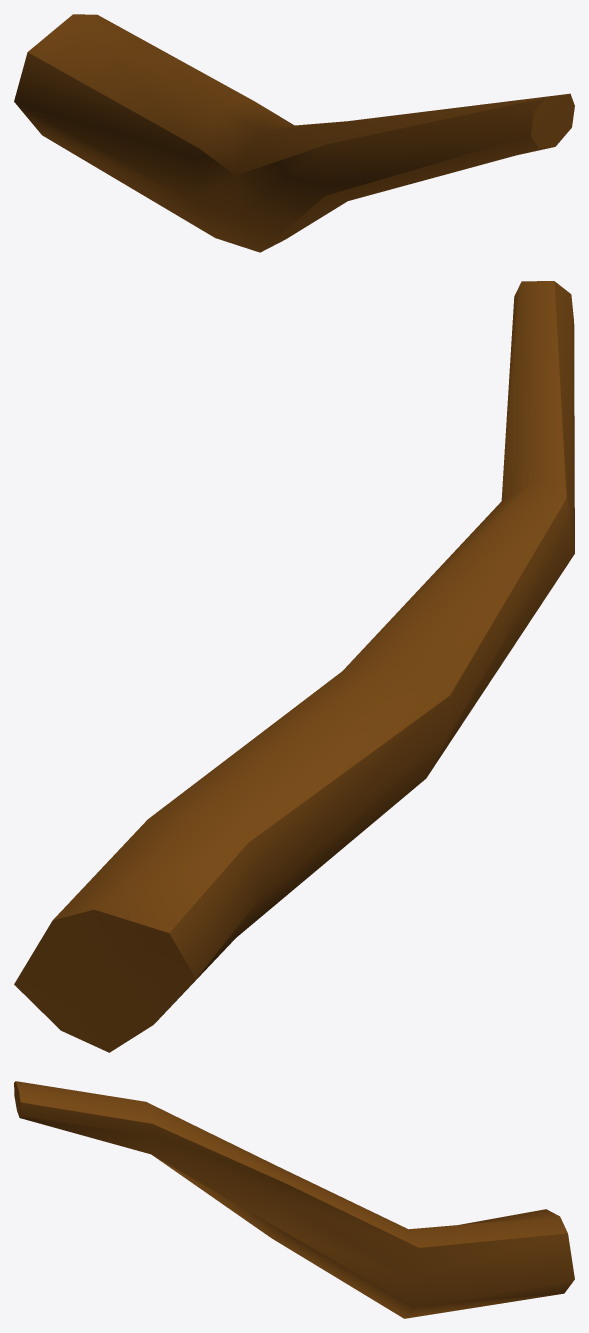
The model's file is Sem4_Environment_Ast04_JT.fbx.
The picture shows the model from 3 angles, top to bottom: view 1: azimuth 30°, elevation 25°; view 2: azimuth 150°, elevation 25°; view 3: azimuth 270°, elevation 25°; orthographic projection. The views are drawn at different scales.
Visible parts, largest first — view 1: Ast004_f; view 2: Ast004_f; view 3: Ast004_f.
Part boxes in pixels (x1,y1,x2,y2): Ast004_f: (14, 14, 574, 252); Ast004_f: (14, 281, 574, 1052); Ast004_f: (14, 1081, 574, 1318).
Bounding box in the file's own units: 10.18 × 22.7 × 49.43.
